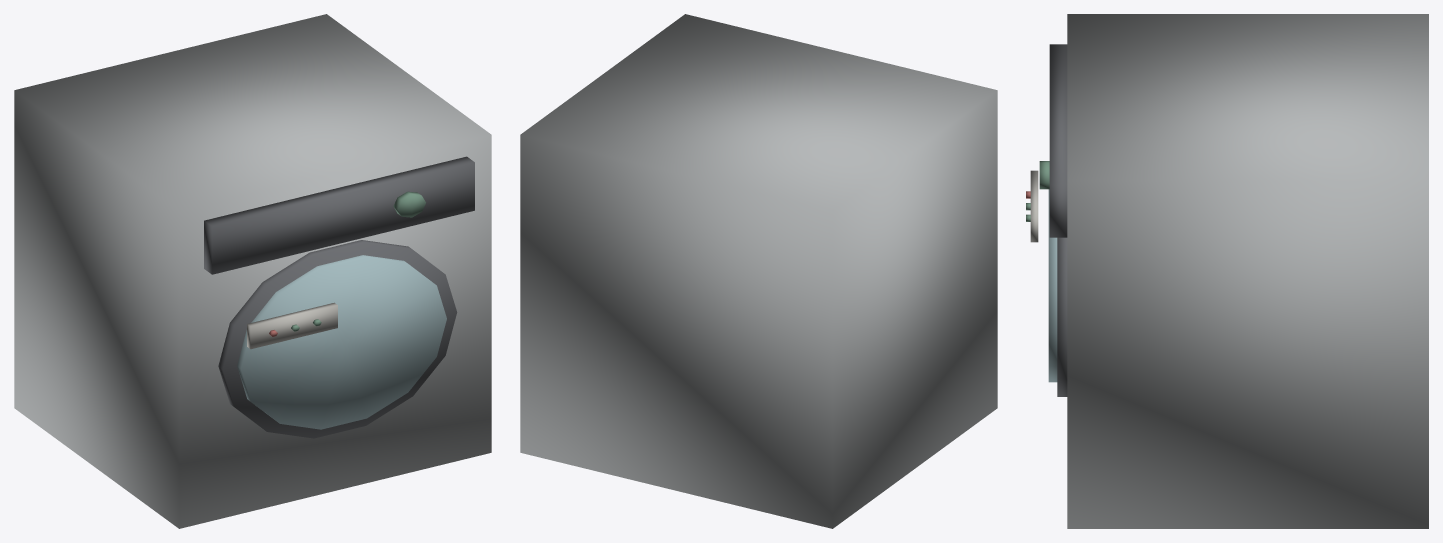
The model's file is industrial_washer__squat.glb.
3 views of the same model, side by side, from view 1: azimuth 30°, elevation 25°; view 2: azimuth 150°, elevation 25°; view 3: azimuth 270°, elevation 25° (orthographic). The views are drawn at different scales.
Visible parts, largest first — view 1: world; view 2: world; view 3: world.
Boxes of the visible parts, left/top/right/bottom form: world: left=14, top=14, right=491, bottom=528; world: left=520, top=14, right=997, bottom=528; world: left=1026, top=14, right=1428, bottom=528.
Size of the model in its own units: 0.968 by 0.9408 by 0.9866.
